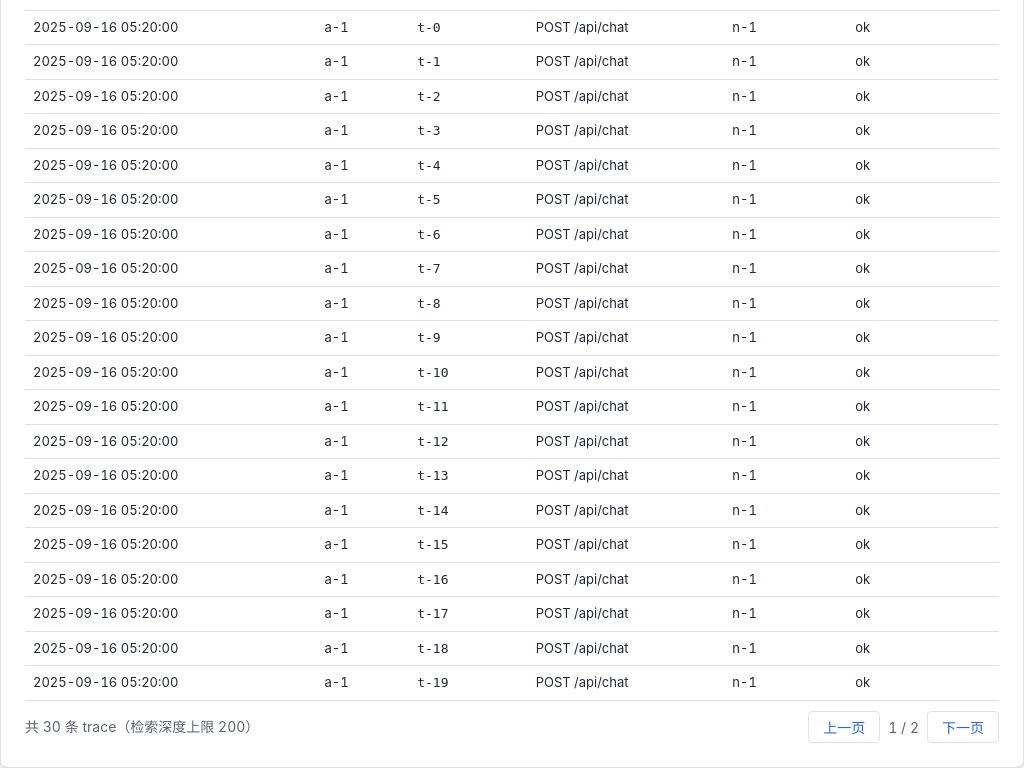
Scenario: P1-10 翻页边界 › 翻到末页 → 分母 2/2 且「下一页」禁用
(page scrolled)
Expected: the text "1 / 2" is shown, x1=888 y1=718 x2=919 y2=736
Step 1. Click the button "下一页" → click(963, 726), box x1=927 y1=710 x2=999 y2=742
(page scrolled)
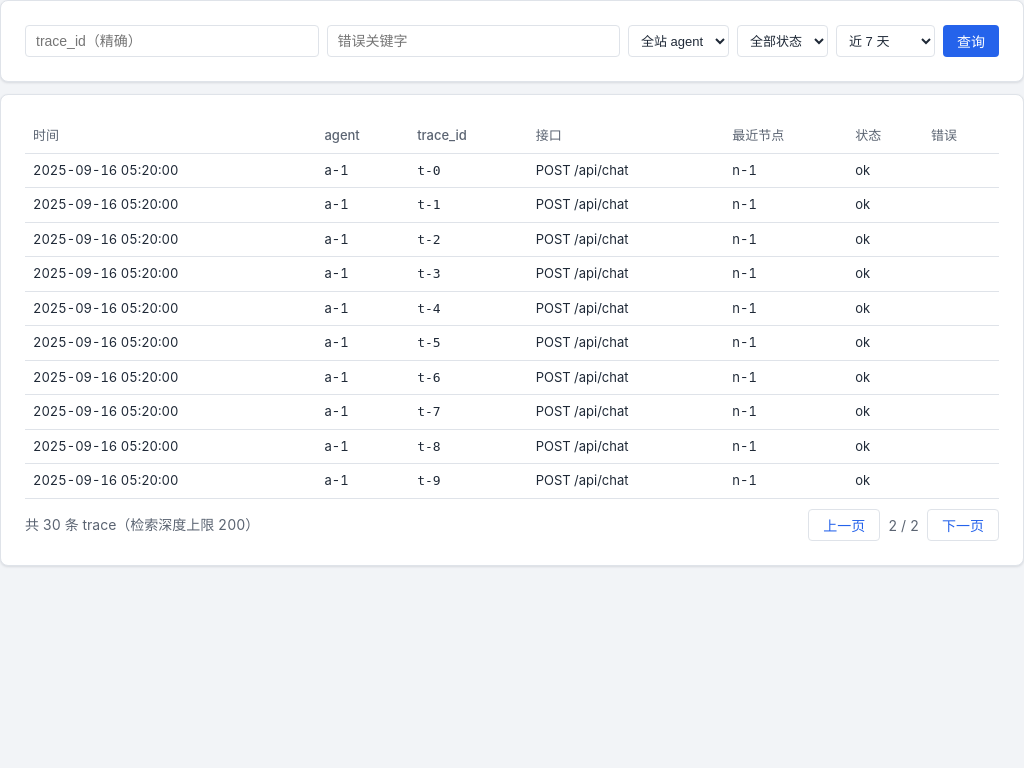
Expected: the text "2 / 2" is shown, x1=888 y1=516 x2=919 y2=534
Expected: the button "下一页" is disabled, x1=927 y1=508 x2=999 y2=540
